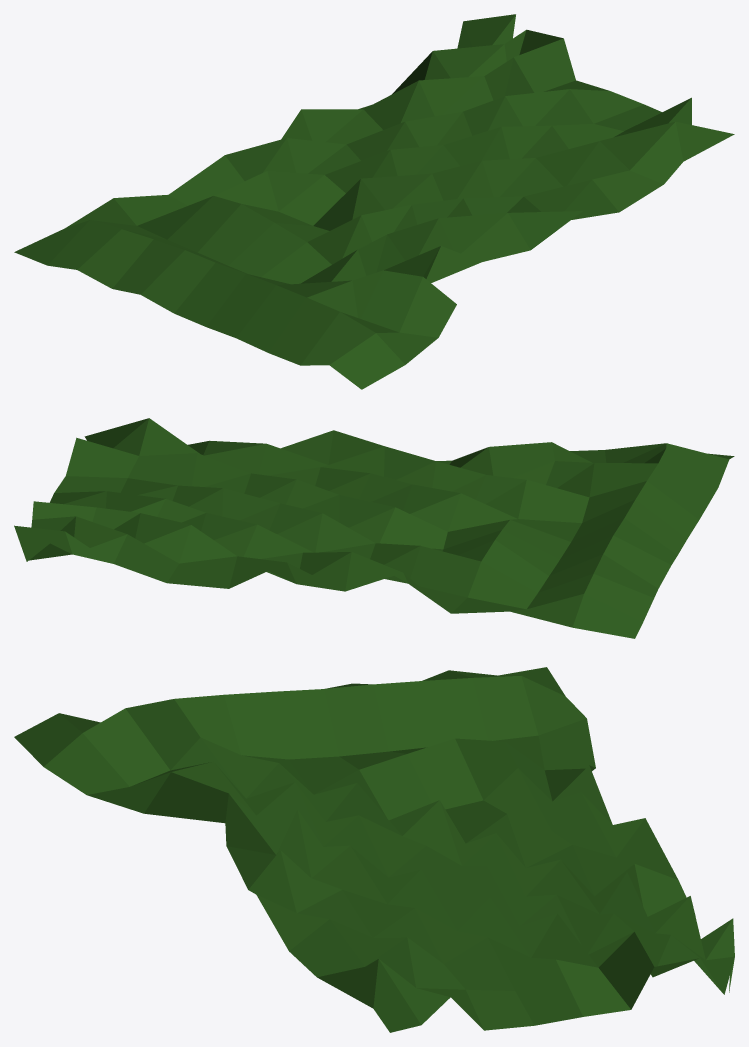
File: wiper.fbx
3 views of the same model, one above another, from view 1: azimuth 30°, elevation 25°; view 2: azimuth 150°, elevation 25°; view 3: azimuth 270°, elevation 25° (orthographic). The views are drawn at different scales.
Parts seen in each view (by area): view 1: Plane.013; view 2: Plane.013; view 3: Plane.013.
Part boxes in pixels (x1,y1,x2,y2): Plane.013: [14, 14, 734, 389]; Plane.013: [14, 418, 734, 638]; Plane.013: [14, 667, 734, 1032].
Bounding box in the file's own units: 0.1572 × 0.0103 × 0.1279.
